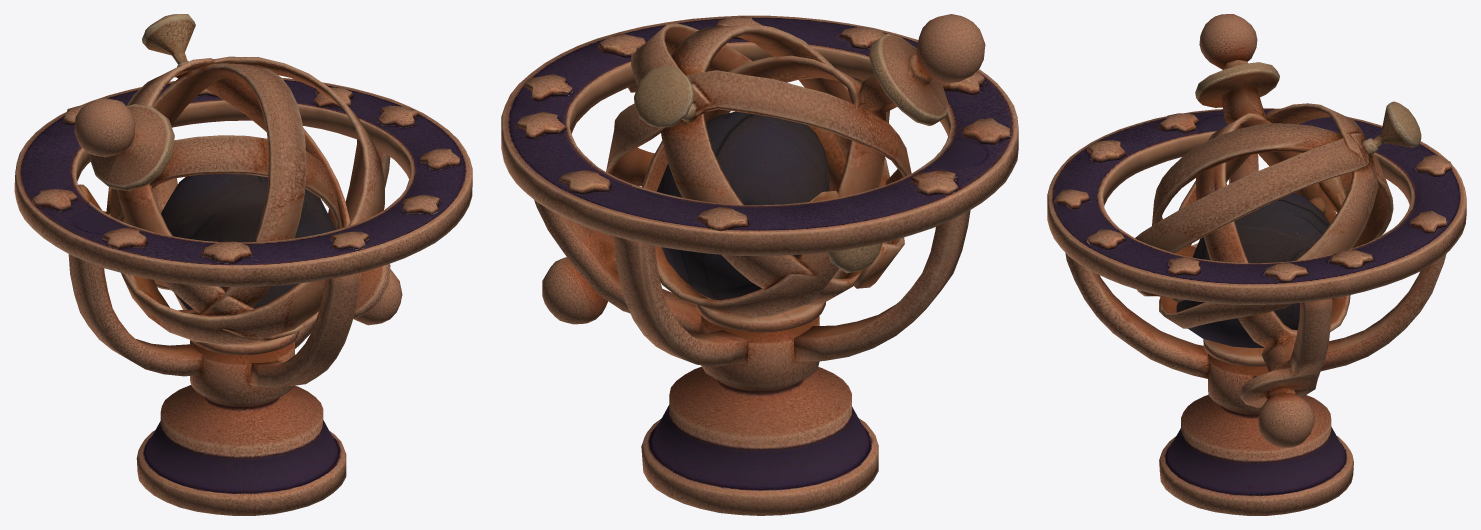
Rendered from tripo_convert_ff7abdef-29dc-4a6f-aac1-05d882f3e447.fbx.
The picture shows the model from 3 angles, left to right: view 1: azimuth 30°, elevation 25°; view 2: azimuth 150°, elevation 25°; view 3: azimuth 270°, elevation 25°; orthographic projection. The views are drawn at different scales.
Parts seen in each view (by area): view 1: tripo_node_ff7abdef; view 2: tripo_node_ff7abdef; view 3: tripo_node_ff7abdef.
Part boxes in pixels (x1,y1,x2,y2): tripo_node_ff7abdef: (14, 14, 472, 515); tripo_node_ff7abdef: (501, 14, 1018, 515); tripo_node_ff7abdef: (1047, 14, 1466, 515).
Bounding box in the file's own units: 0.9863 × 0.998 × 0.9746.
1 material, 1 textured.
